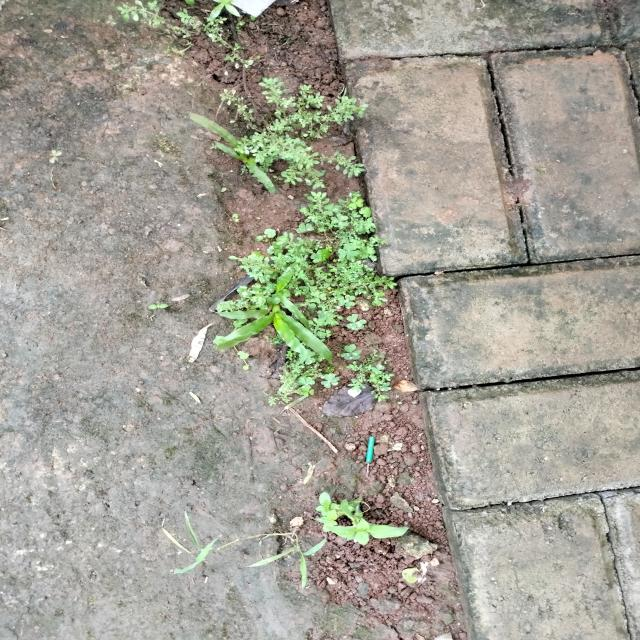clover: (336, 241, 362, 262), (345, 313, 369, 333), (341, 342, 364, 361), (295, 374, 316, 393), (336, 292, 358, 310), (321, 371, 341, 389), (298, 347, 317, 365), (322, 202, 342, 218), (369, 363, 387, 376), (296, 222, 315, 234), (348, 197, 365, 210)
lumut besar: (236, 188, 400, 310), (234, 76, 370, 190), (115, 0, 205, 36), (199, 14, 256, 70), (344, 348, 394, 403)
masker: (265, 292, 282, 306), (358, 206, 374, 219), (317, 247, 332, 259), (232, 318, 250, 328), (264, 227, 278, 239), (310, 252, 324, 264), (236, 349, 250, 361)
rambat atas: (245, 530, 331, 592), (159, 507, 219, 576)
rambat bawah: (213, 302, 336, 367)
